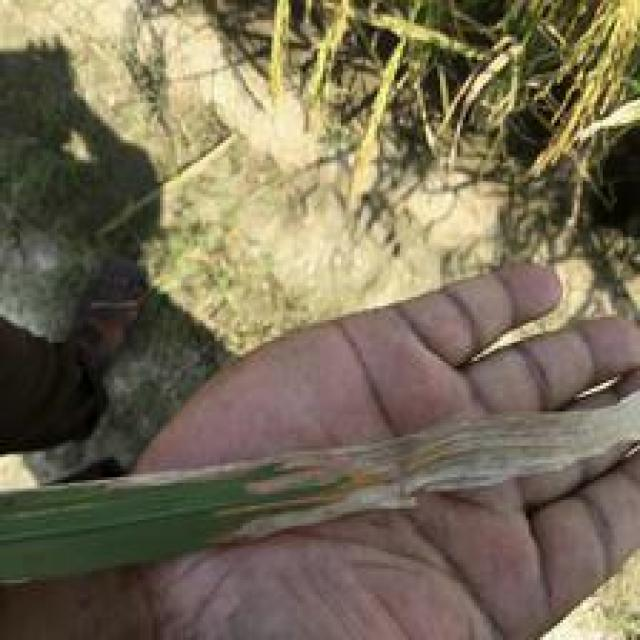Bacterial_Leaf_Blight: (186, 423, 614, 488)
